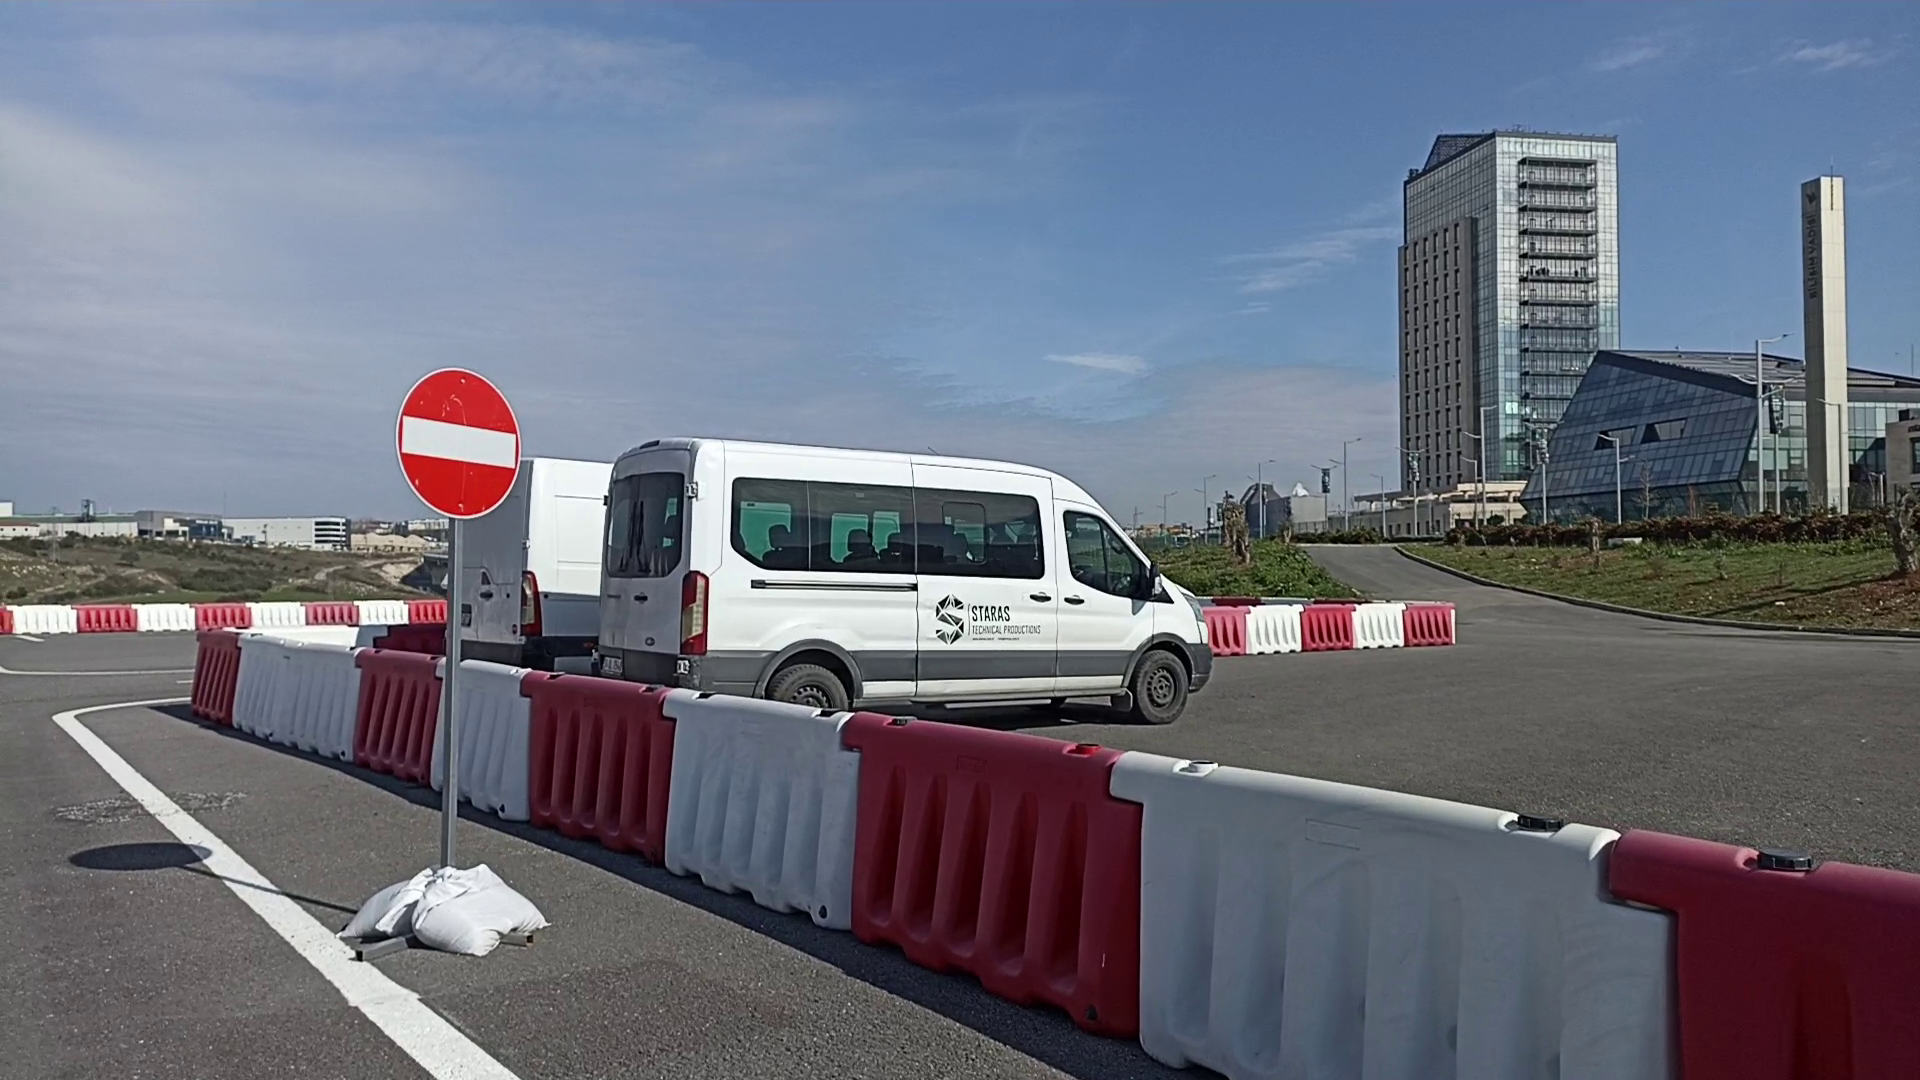noentryway: (394, 365, 527, 524)
